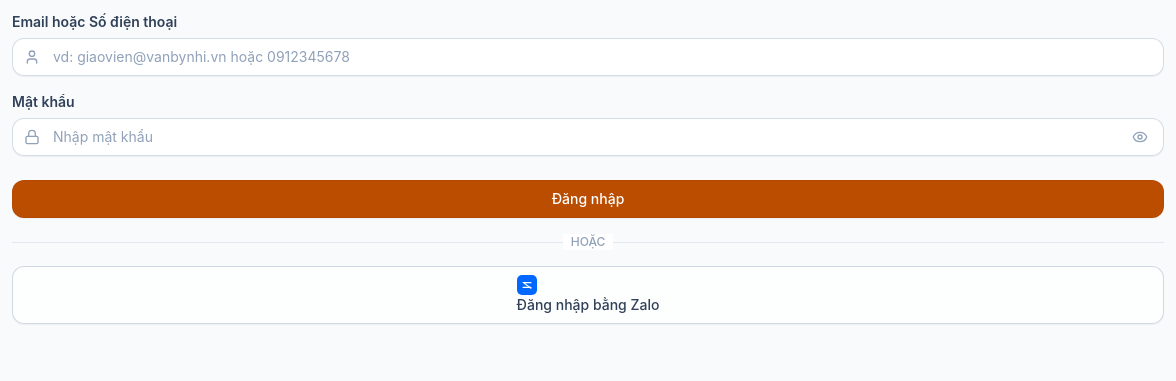
LoginForm › validates empty inputs on submit
What coordinates should you click on to do the following:
click the button "Đăng nhập"
I would click on:
 (588, 199)
Its box is [12,180,1164,218].
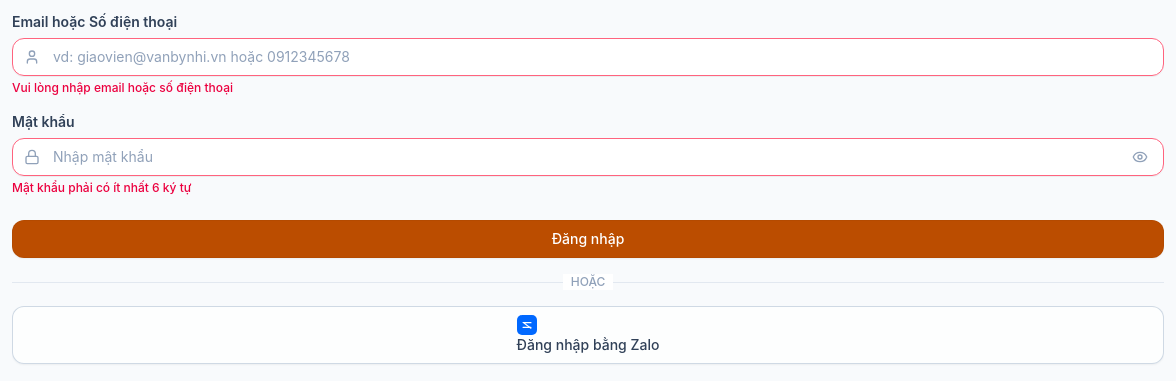
Expected: the text "Vui lòng nhập email hoặc số điện thoại" is shown, [12,80,233,95]
Expected: the text "Mật khẩu phải có ít nhất 6 ký tự" is shown, [12,180,191,195]
